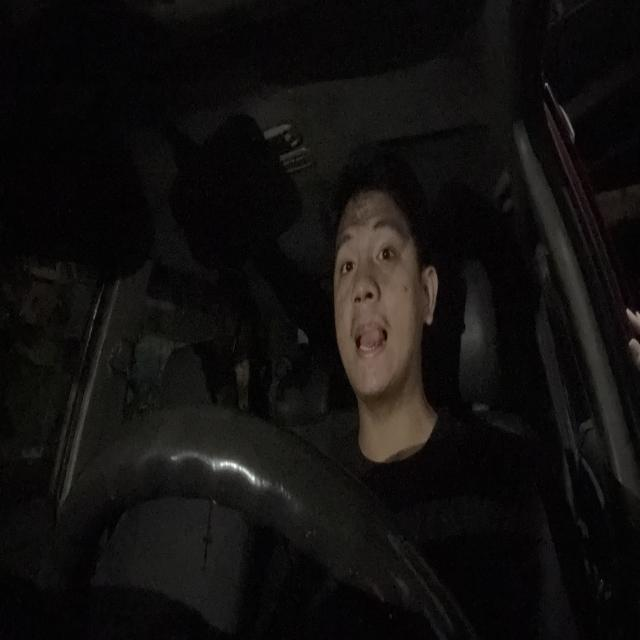open: (373, 216, 404, 274), (337, 231, 357, 286)
